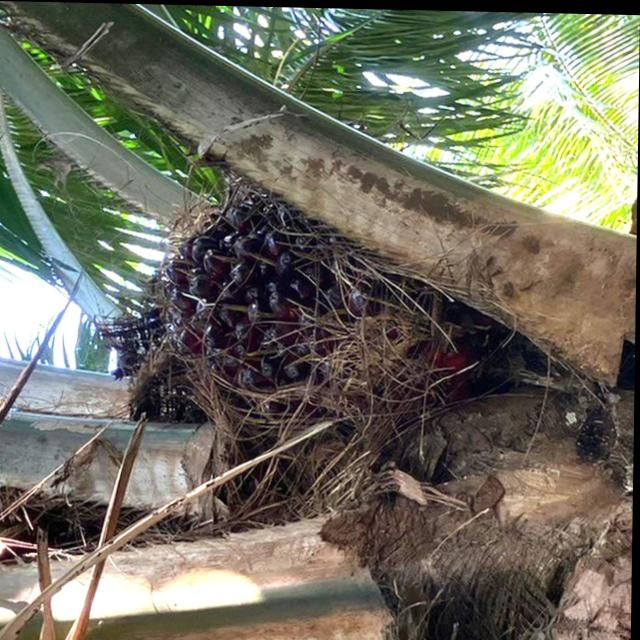ripe: (141, 162, 490, 410)
